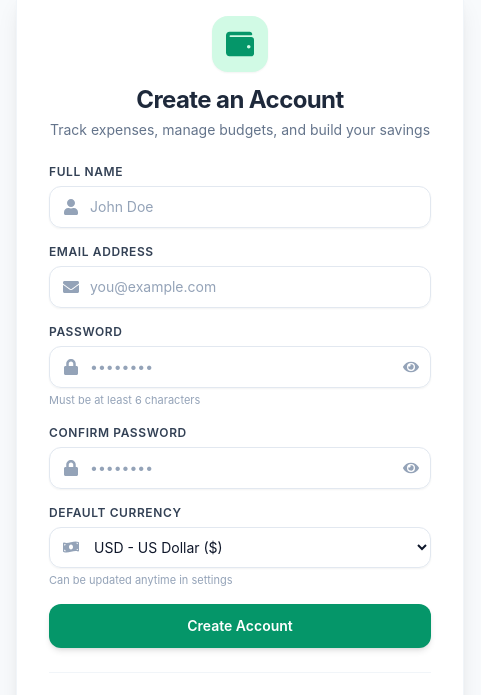
Test: RegisterPage Component › validates password length under 6 characters
Type "Alice Smith" into the field labelled "Full Name". click: (240, 207)
box: left=49, top=186, right=431, bottom=228
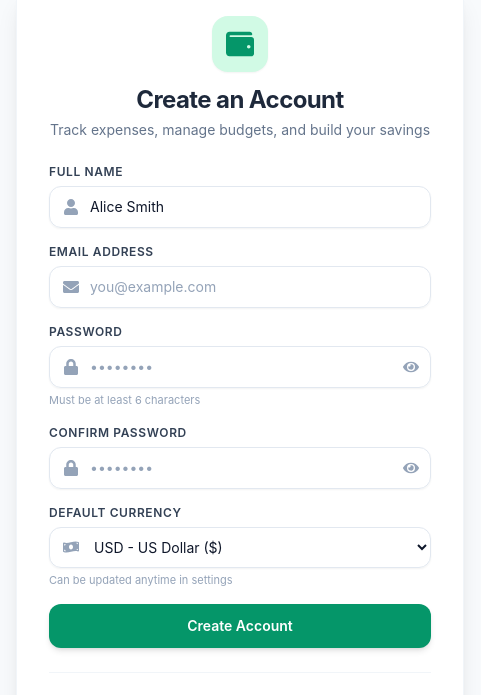
Type "alice@example.com" into the field labelled "Email Address". click: (240, 287)
box: left=49, top=266, right=431, bottom=308
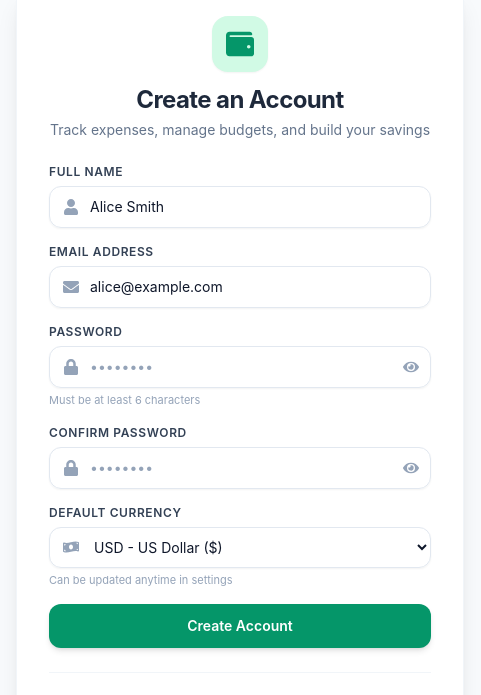
Type "12345" into the password field with test id "register-password-input". click: (240, 367)
box: left=49, top=346, right=431, bottom=388
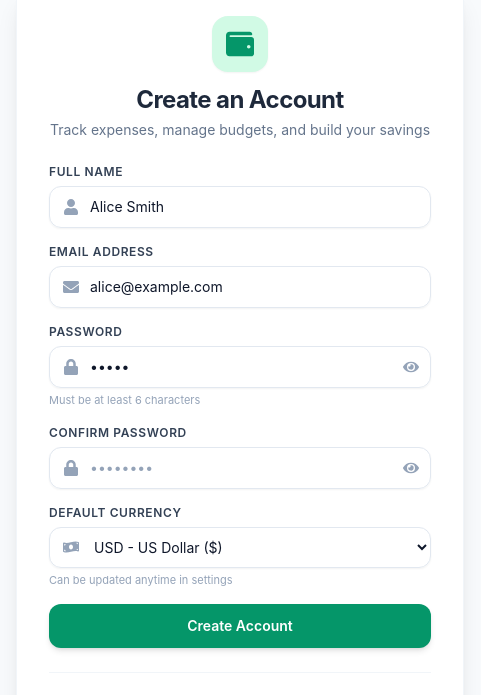
Click the button "Create Account". click: click(240, 626)
box: left=49, top=604, right=431, bottom=648
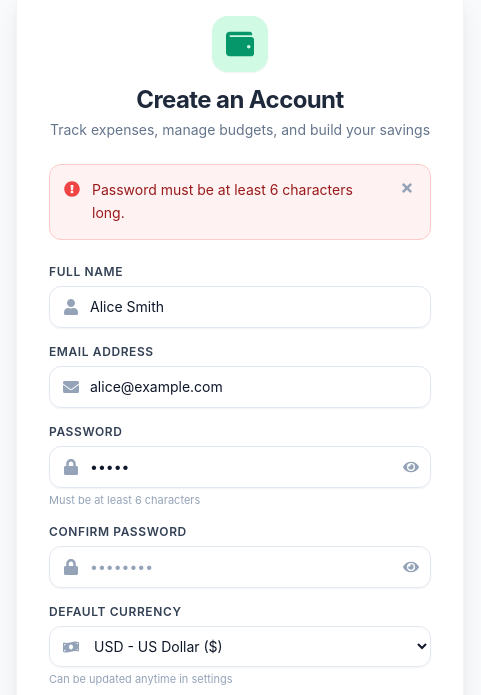
Check: the message "Password must be at least 6 characters long." is shown, box left=49, top=164, right=431, bottom=240
Check: the text "Password must be at least 6 characters long." is shown, box left=92, top=179, right=382, bottom=224
